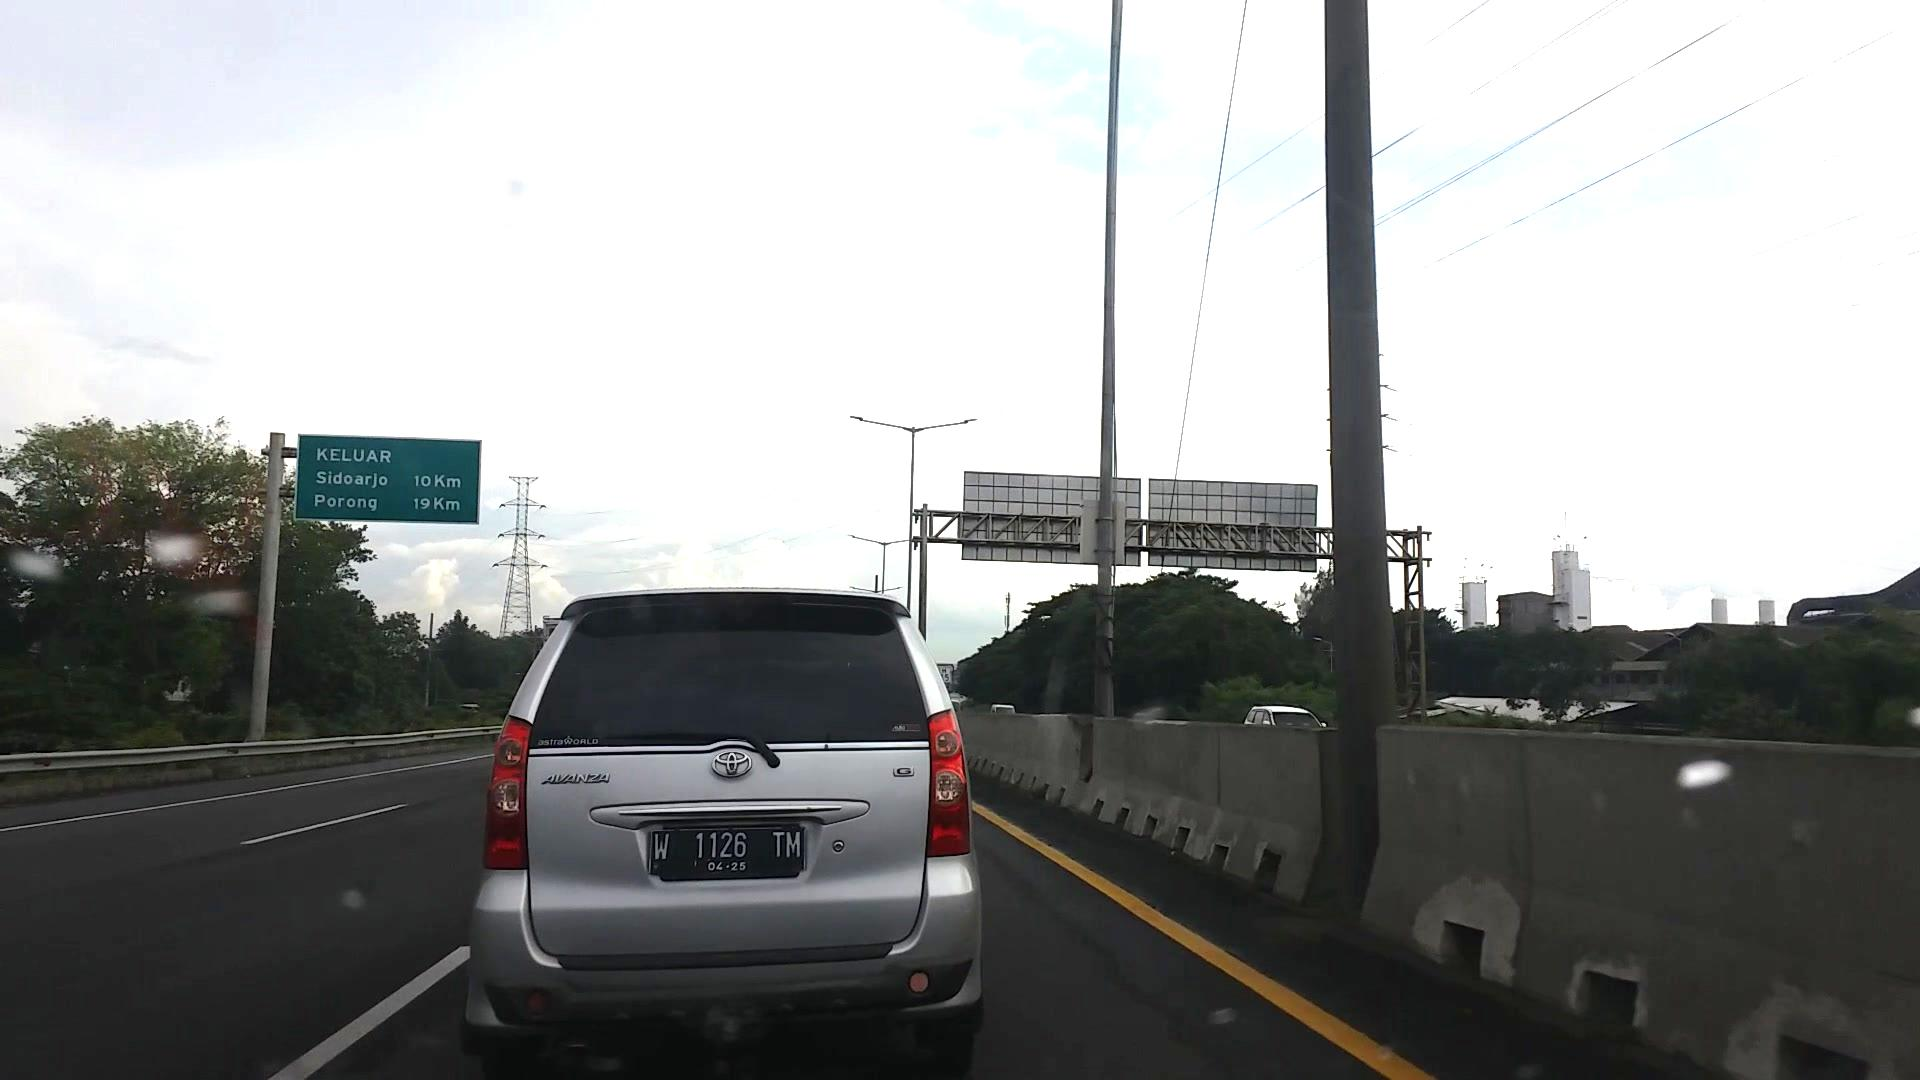plate_positive: (649, 829, 804, 873)
